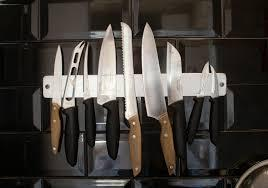Knife: (141, 21, 176, 176), (49, 44, 62, 154)
